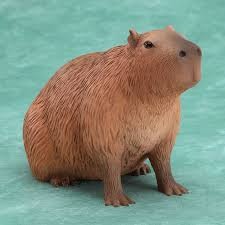capivara: (21, 24, 204, 208)
